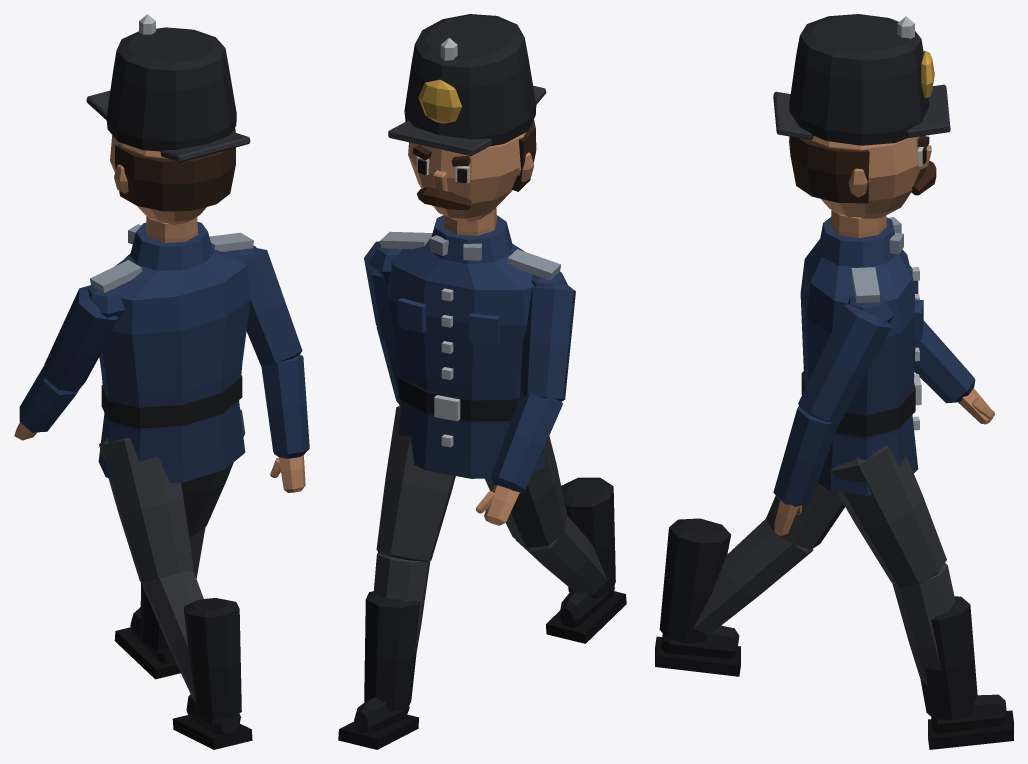
Rendered from chr_police_w2.glb.
3 renders of one model, left to right at view 1: azimuth 30°, elevation 25°; view 2: azimuth 150°, elevation 25°; view 3: azimuth 270°, elevation 25°, orthographic. The views are drawn at different scales.
Parts seen in each view (by area): view 1: chr_police_w2; view 2: chr_police_w2; view 3: chr_police_w2.
Part boxes in pixels (box(x1,y1,x2,y2)): chr_police_w2: box(14, 14, 309, 749); chr_police_w2: box(338, 14, 626, 749); chr_police_w2: box(655, 14, 1013, 749).
Bounding box in the file's own units: 0.5981 × 1.78 × 0.8216.
